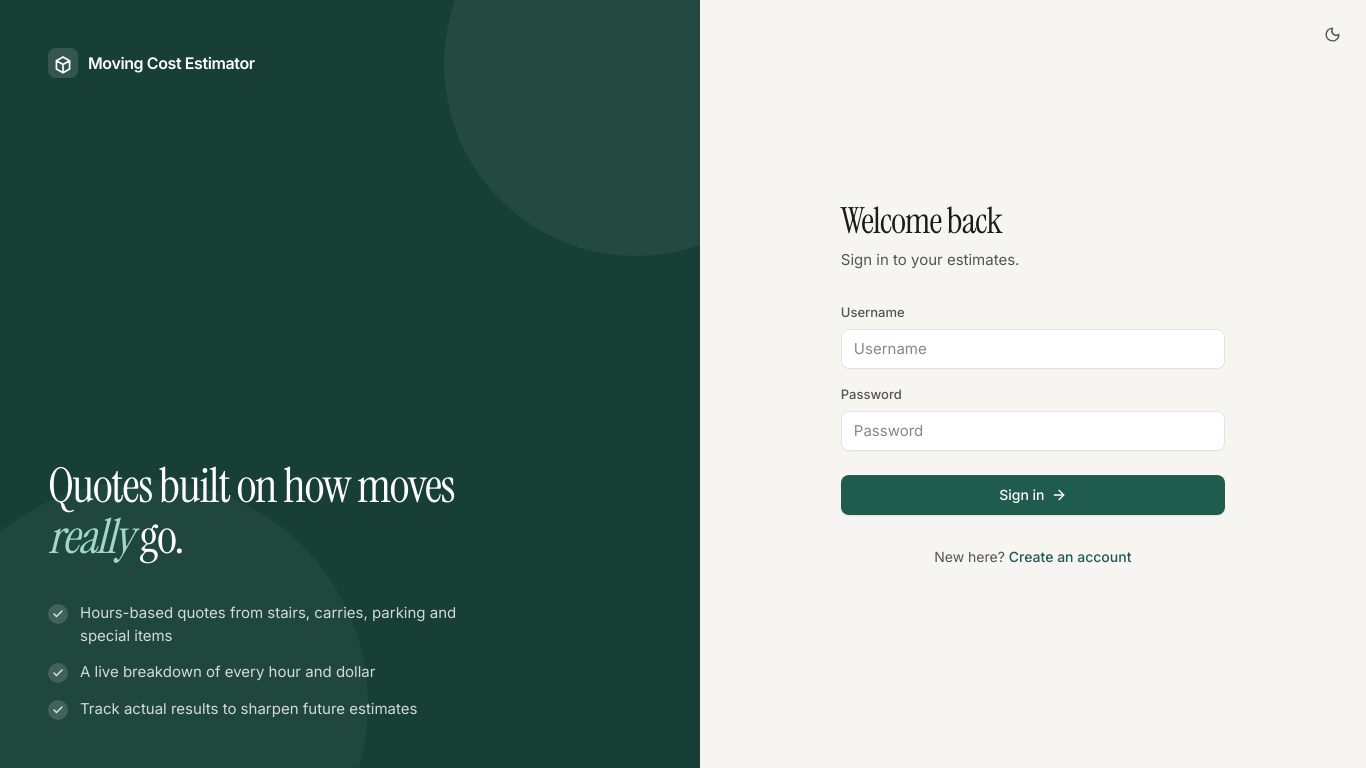
Test: AuthForm › shows a server-unreachable message on network errors
Step 1. Type "ben" into the field with placeholder "Username" → (1033, 349), box [841, 329, 1225, 369]
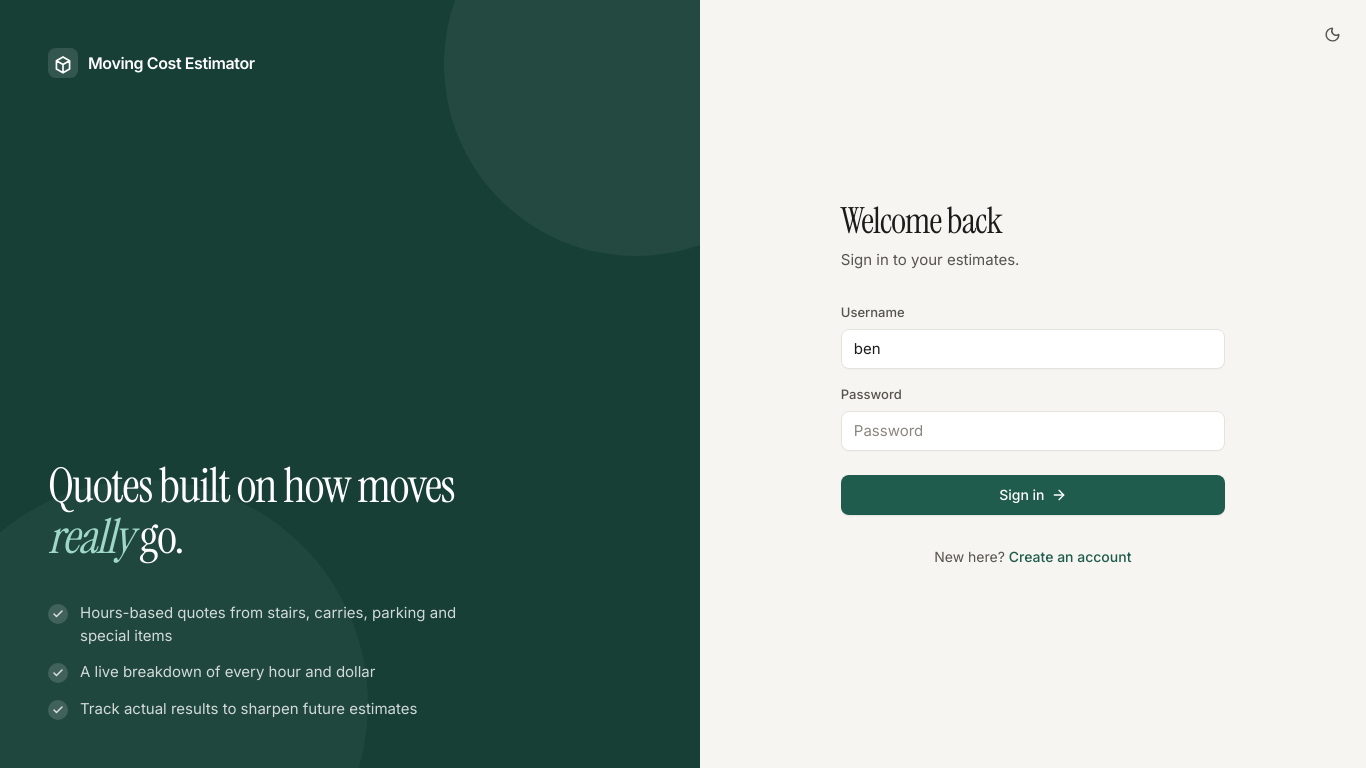
Step 2. Type "x" into the password field with placeholder "Password" → (1033, 431), box [841, 411, 1225, 451]
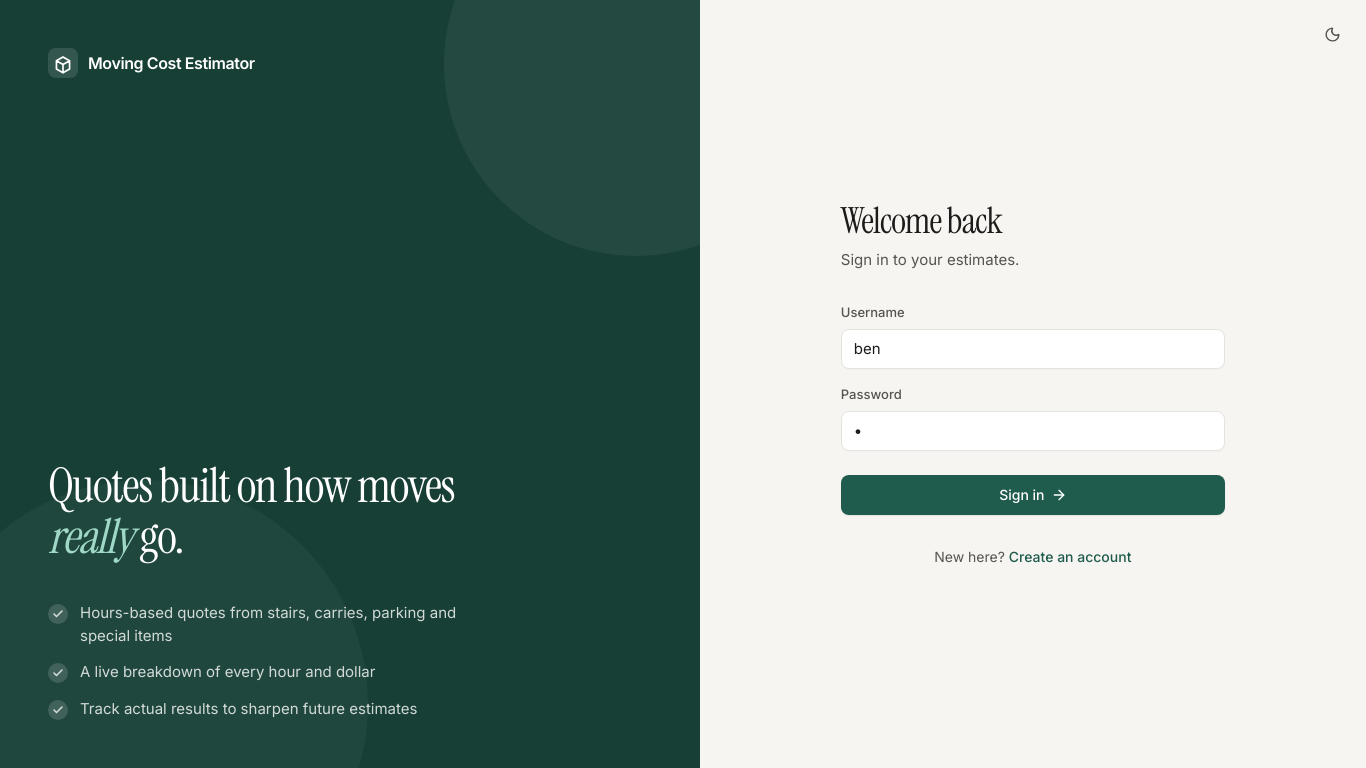
Step 3. Click the button "Sign in" → (1033, 495), box [841, 475, 1225, 515]
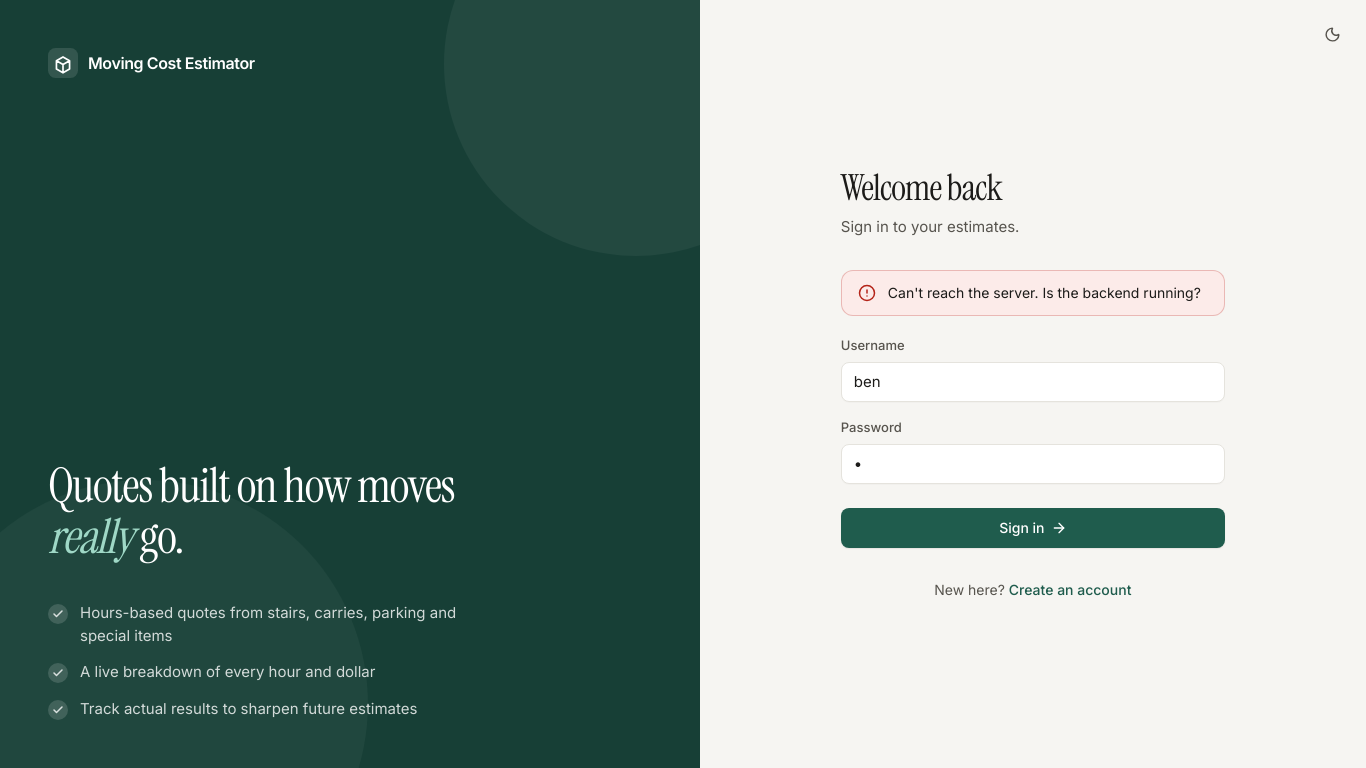
Result: the message shows "Can't reach the server" at [888, 284, 1201, 301]
